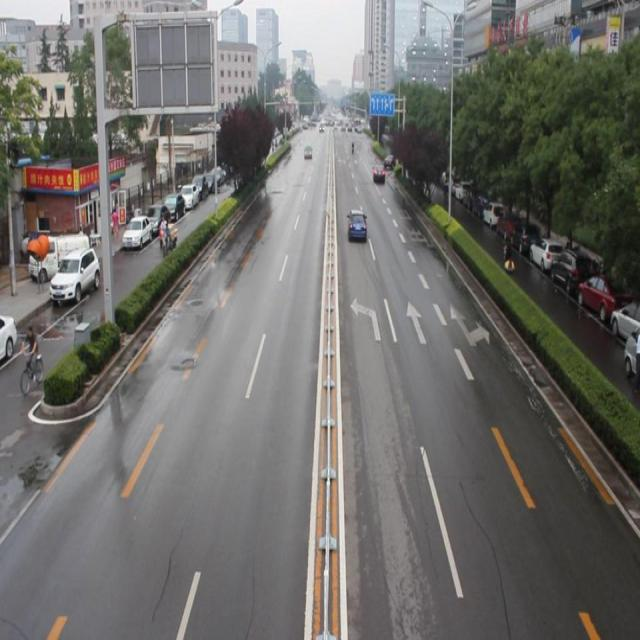car: (345, 208, 366, 240), (370, 164, 384, 183)
